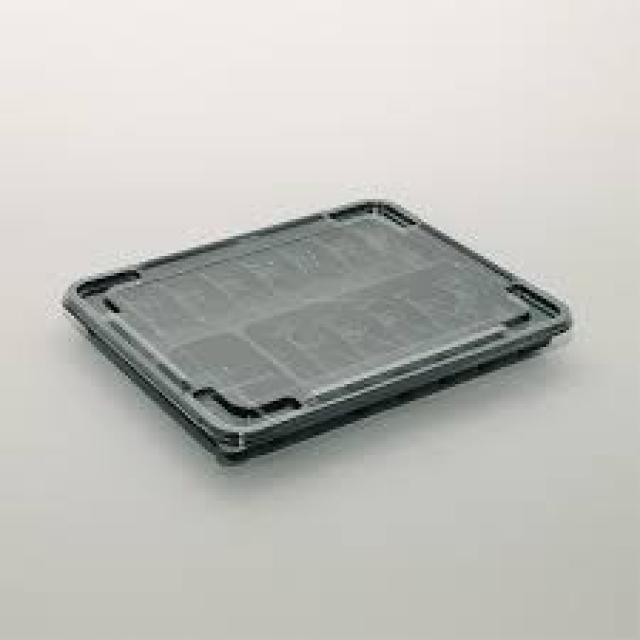disposable: (47, 170, 590, 490)
